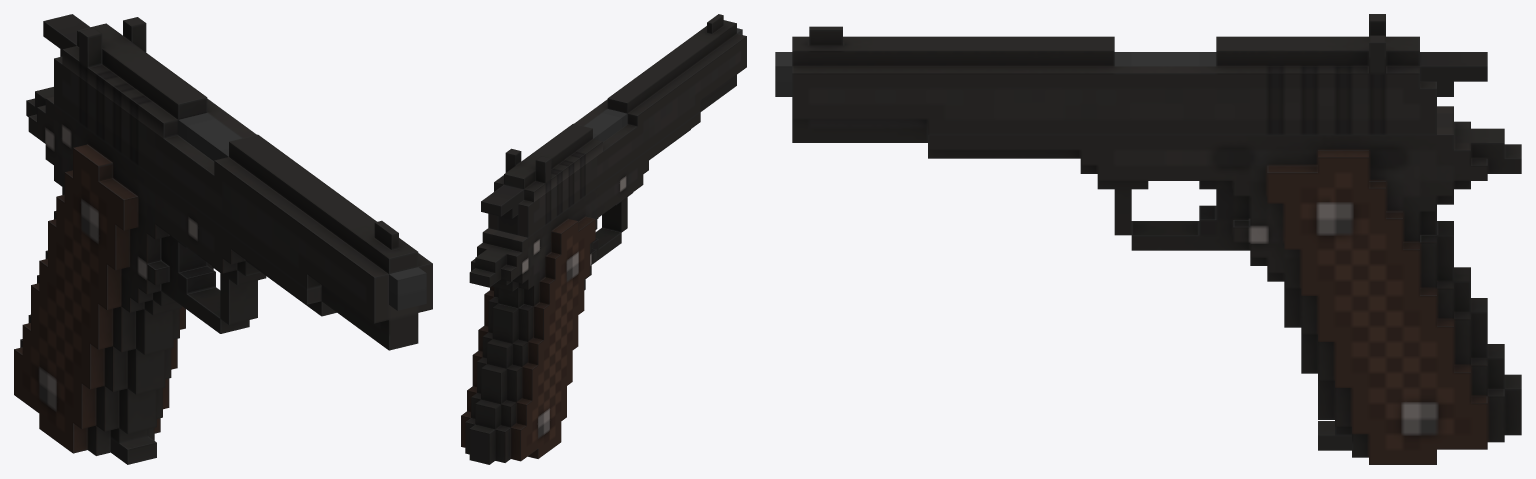
The picture shows the model from 3 angles, left to right: view 1: azimuth 30°, elevation 25°; view 2: azimuth 150°, elevation 25°; view 3: azimuth 270°, elevation 25°; orthographic projection. The views are drawn at different scales.
Parts seen in each view (by area): view 1: COLT_M1911, COLT_M1911_FRAME, COLT_M1911_TRIGGER, COLT_M1911_CLIP; view 2: COLT_M1911, COLT_M1911_FRAME, COLT_M1911_TRIGGER; view 3: COLT_M1911, COLT_M1911_FRAME, COLT_M1911_TRIGGER, COLT_M1911_CLIP.
Part boxes in pixels (x1,y1,x2,y2): COLT_M1911: [14, 87, 426, 455]; COLT_M1911_FRAME: [54, 17, 432, 350]; COLT_M1911_TRIGGER: [43, 14, 90, 56]; COLT_M1911_CLIP: [110, 436, 156, 464]; COLT_M1911: [461, 28, 742, 464]; COLT_M1911_FRAME: [488, 14, 746, 237]; COLT_M1911_TRIGGER: [481, 184, 523, 235]; COLT_M1911: [775, 52, 1521, 464]; COLT_M1911_FRAME: [792, 14, 1436, 142]; COLT_M1911_TRIGGER: [1420, 52, 1487, 96]; COLT_M1911_CLIP: [1318, 421, 1351, 450].
Size of the model in its own units: 0.0591 by 0.2657 by 0.4331.
Materials: 1 (1 with a texture image).
